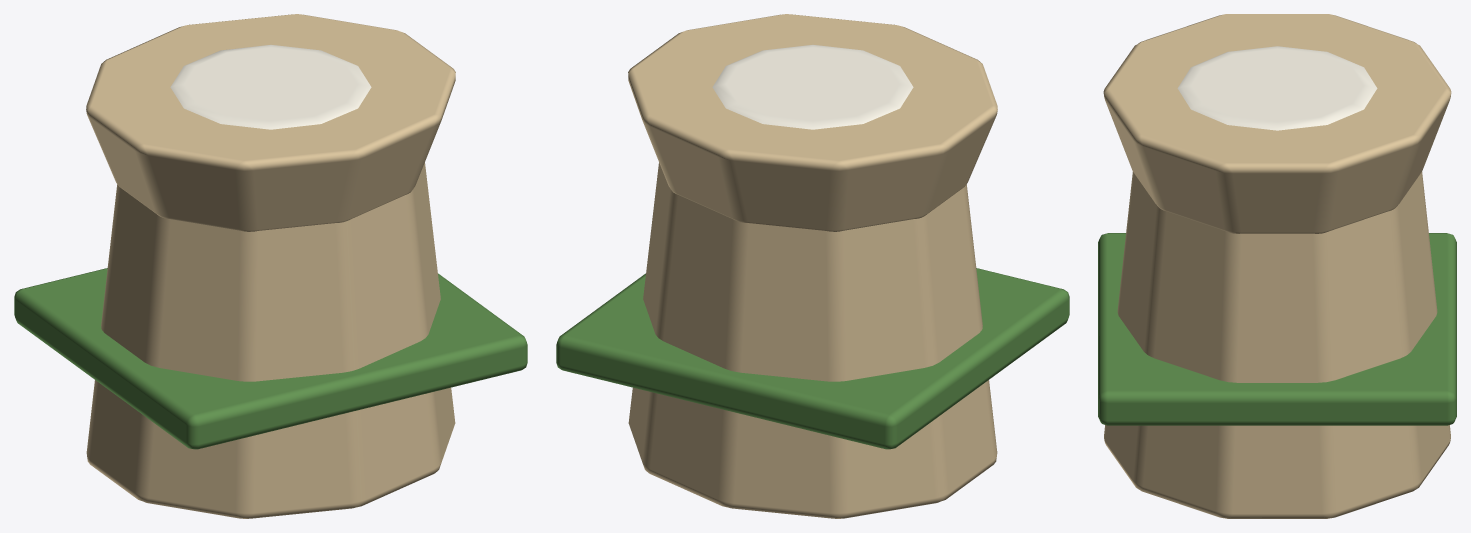
Rendered from Rice.glb.
3 renders of one model, left to right at view 1: azimuth 30°, elevation 25°; view 2: azimuth 150°, elevation 25°; view 3: azimuth 270°, elevation 25°, orthographic.
Parts seen in each view (by area): view 1: Rice; view 2: Rice; view 3: Rice.
Part boxes in pixels (bbox=[...]): Rice: bbox=[14, 14, 527, 518]; Rice: bbox=[556, 14, 1069, 518]; Rice: bbox=[1098, 14, 1456, 518].
Bounding box in the file's own units: 0.122 × 0.124 × 0.112.
